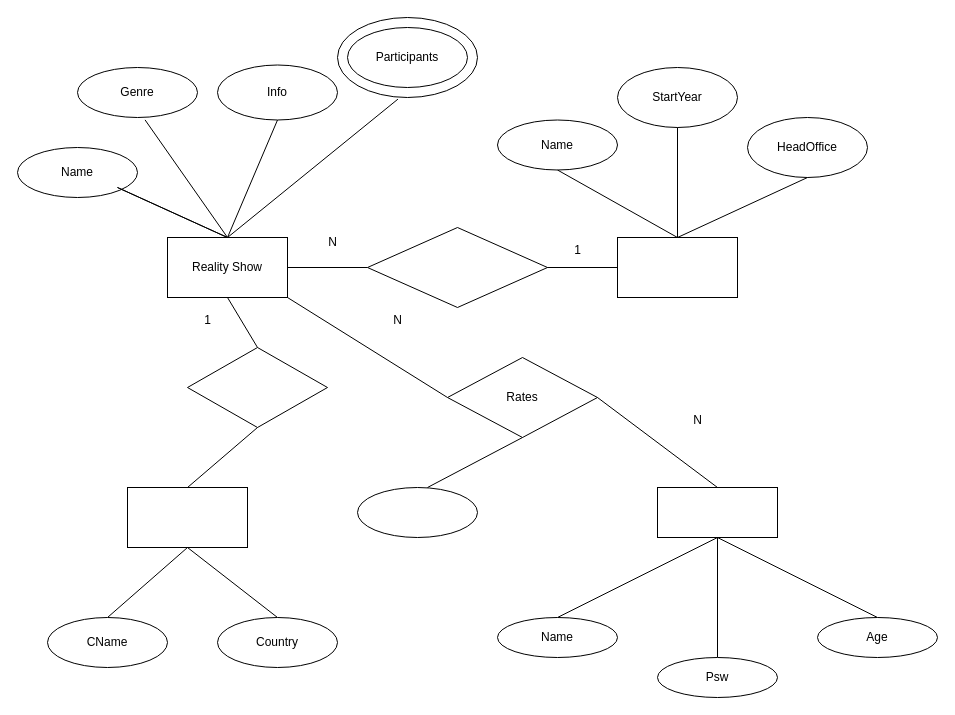
The diagram is 955 pixels wide and 715 high, and some of its shapes have lost their labels. Here are the shapes that lost their labels. From the top down, the box of each, then its label:
(366, 226, 548, 308): Broadcasts
(616, 236, 738, 298): Television
(186, 346, 328, 428): Produces
(126, 486, 248, 548): Producer
(356, 486, 478, 538): Rating
(656, 486, 778, 538): User
